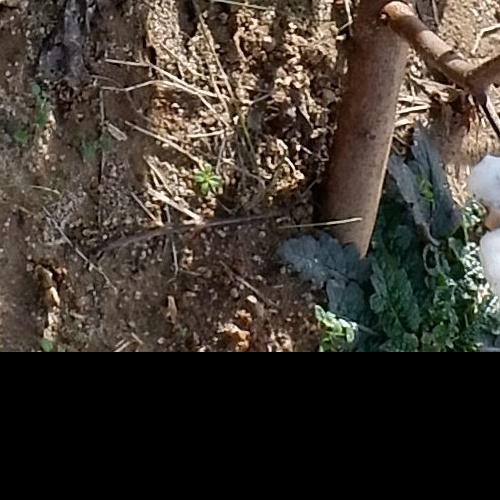immature_boll: (45, 40, 301, 298)
